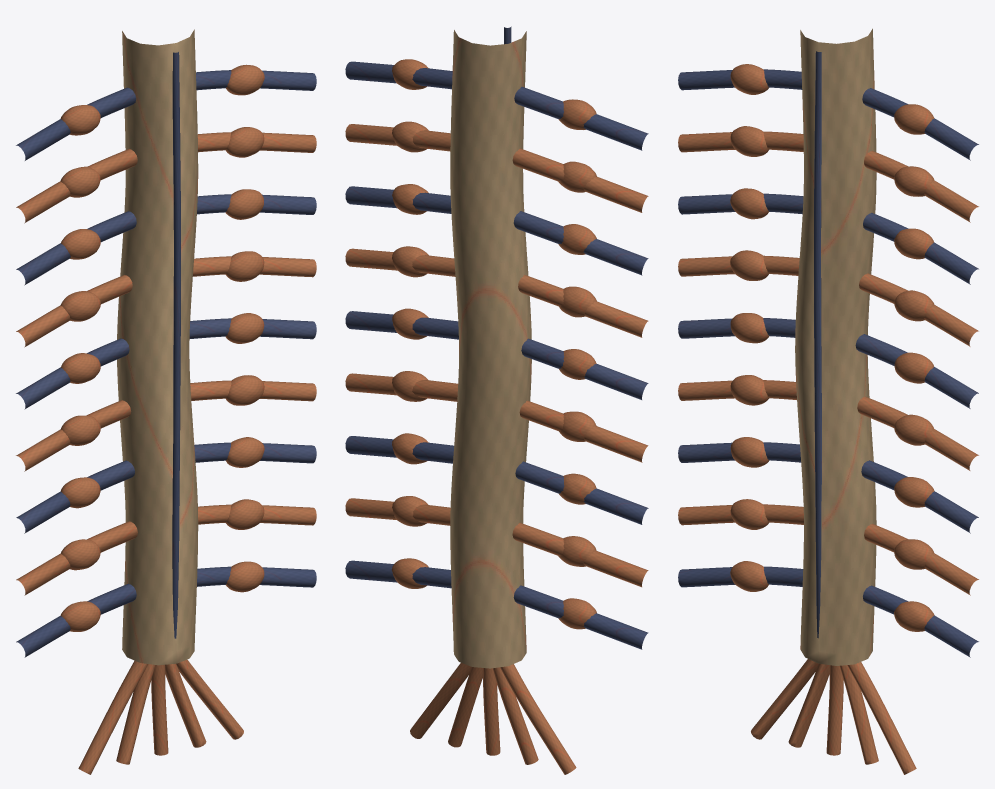
File: spinal-cord.c9e0da57.glb
The picture shows the model from 3 angles, left to right: view 1: azimuth 30°, elevation 25°; view 2: azimuth 150°, elevation 25°; view 3: azimuth 330°, elevation 25°; orthographic projection.
Parts seen in each view (by area): view 1: procedural-spinal-cord-surface-1, procedural-spinal-cord-surface-38, procedural-spinal-cord-surface-39, procedural-spinal-cord-surface-30, procedural-spinal-cord-surface-6, procedural-spinal-cord-surface-10, procedural-spinal-cord-surface-34, procedural-spinal-cord-surface-2, procedural-spinal-cord-surface-19, procedural-spinal-cord-surface-23, procedural-spinal-cord-surface-26, procedural-spinal-cord-surface-14 (+31 smaller); view 2: procedural-spinal-cord-surface-1, procedural-spinal-cord-surface-6, procedural-spinal-cord-surface-30, procedural-spinal-cord-surface-10, procedural-spinal-cord-surface-34, procedural-spinal-cord-surface-2, procedural-spinal-cord-surface-26, procedural-spinal-cord-surface-14, procedural-spinal-cord-surface-22, procedural-spinal-cord-surface-18, procedural-spinal-cord-surface-39, procedural-spinal-cord-surface-19 (+30 smaller); view 3: procedural-spinal-cord-surface-1, procedural-spinal-cord-surface-38, procedural-spinal-cord-surface-19, procedural-spinal-cord-surface-23, procedural-spinal-cord-surface-43, procedural-spinal-cord-surface-15, procedural-spinal-cord-surface-30, procedural-spinal-cord-surface-6, procedural-spinal-cord-surface-10, procedural-spinal-cord-surface-34, procedural-spinal-cord-surface-27, procedural-spinal-cord-surface-2 (+31 smaller).
Part boxes in pixels (box(x1,y1,x2,y2)): procedural-spinal-cord-surface-1: box(117, 29, 198, 665); procedural-spinal-cord-surface-38: box(172, 52, 180, 638); procedural-spinal-cord-surface-39: box(78, 660, 147, 774); procedural-spinal-cord-surface-30: box(16, 521, 137, 595); procedural-spinal-cord-surface-6: box(16, 148, 137, 223); procedural-spinal-cord-surface-10: box(16, 211, 136, 285); procedural-spinal-cord-surface-34: box(16, 583, 136, 657); procedural-spinal-cord-surface-2: box(16, 87, 136, 160); procedural-spinal-cord-surface-19: box(189, 318, 316, 339); procedural-spinal-cord-surface-23: box(190, 380, 316, 401); procedural-spinal-cord-surface-26: box(16, 460, 135, 533); procedural-spinal-cord-surface-14: box(16, 275, 132, 347); procedural-spinal-cord-surface-1: box(450, 30, 531, 668); procedural-spinal-cord-surface-6: box(512, 148, 648, 212); procedural-spinal-cord-surface-30: box(512, 522, 648, 587); procedural-spinal-cord-surface-10: box(513, 211, 648, 275); procedural-spinal-cord-surface-34: box(513, 585, 648, 649); procedural-spinal-cord-surface-2: box(514, 86, 648, 150); procedural-spinal-cord-surface-26: box(515, 461, 648, 524); procedural-spinal-cord-surface-14: box(518, 275, 648, 337); procedural-spinal-cord-surface-22: box(519, 400, 648, 462); procedural-spinal-cord-surface-18: box(521, 338, 648, 399); procedural-spinal-cord-surface-39: box(500, 664, 576, 774); procedural-spinal-cord-surface-19: box(345, 311, 458, 339); procedural-spinal-cord-surface-1: box(795, 28, 876, 665); procedural-spinal-cord-surface-38: box(814, 51, 821, 638); procedural-spinal-cord-surface-19: box(855, 334, 978, 408); procedural-spinal-cord-surface-23: box(857, 396, 978, 470); procedural-spinal-cord-surface-43: box(847, 662, 916, 774); procedural-spinal-cord-surface-15: box(859, 273, 978, 346); procedural-spinal-cord-surface-30: box(678, 504, 803, 525); procedural-spinal-cord-surface-6: box(678, 131, 803, 152); procedural-spinal-cord-surface-10: box(678, 193, 803, 214); procedural-spinal-cord-surface-34: box(678, 566, 803, 587); procedural-spinal-cord-surface-27: box(861, 460, 978, 533); procedural-spinal-cord-surface-2: box(678, 69, 802, 90).
Size of the model in its own units: 1.7 by 3.97 by 0.3882.
3 materials, 3 textured.
